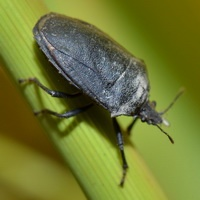insect: (33, 12, 183, 186)
